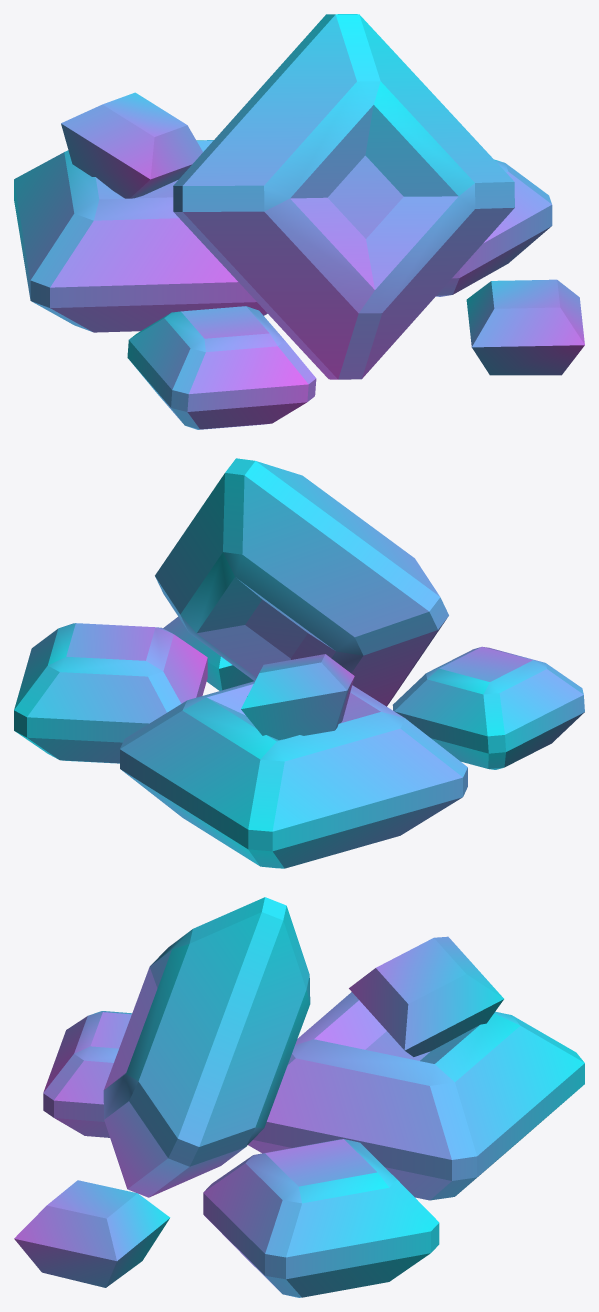
The model's file is kaykit_gems_pile_small.glb.
3 views of the same model, one above another, from view 1: azimuth 30°, elevation 25°; view 2: azimuth 150°, elevation 25°; view 3: azimuth 270°, elevation 25° (orthographic). The views are drawn at different scales.
Parts seen in each view (by area): view 1: Gems_Pile_Small; view 2: Gems_Pile_Small; view 3: Gems_Pile_Small.
Part boxes in pixels (x1,y1,x2,y2): Gems_Pile_Small: (14, 14, 584, 429); Gems_Pile_Small: (14, 458, 584, 868); Gems_Pile_Small: (14, 897, 584, 1297).
Bounding box in the file's own units: 1.05 × 0.6485 × 1.05.
Materials: 1 (1 with a texture image).
